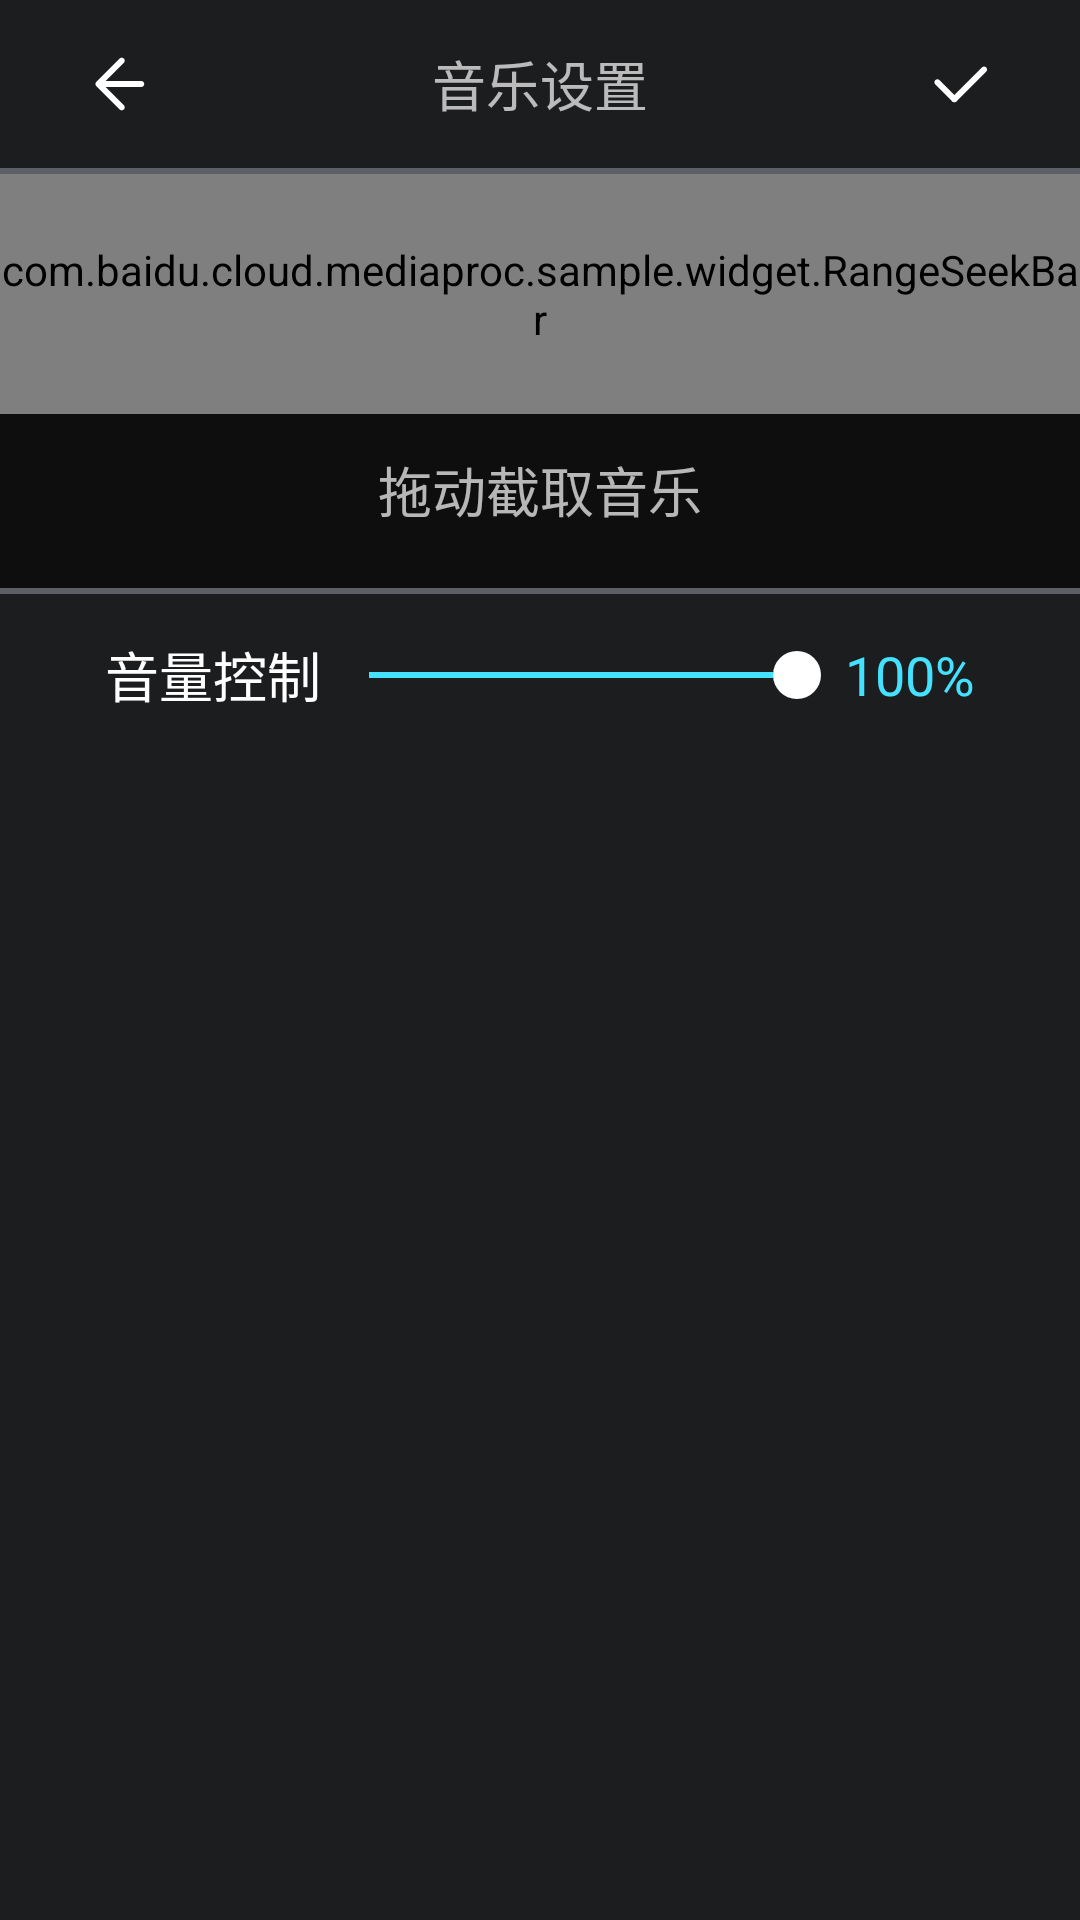

Icon click points for this 1080px x 1920px phone screenshot, format (x,y):
confirm: (960,84)
last: (120,84)
